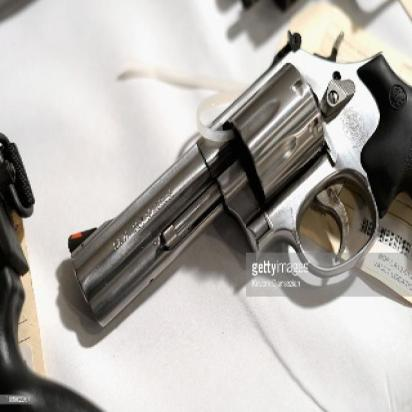Gun: (57, 24, 410, 328)
